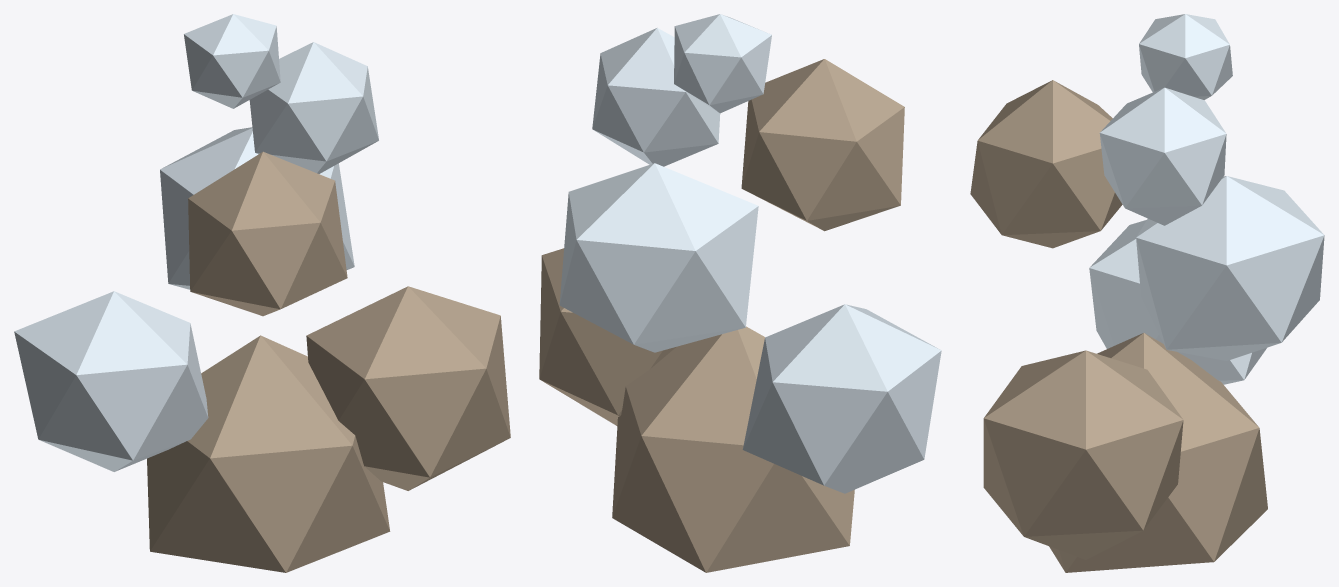
Rendered from boom-3.glb.
The picture shows the model from 3 angles, left to right: view 1: azimuth 30°, elevation 25°; view 2: azimuth 150°, elevation 25°; view 3: azimuth 270°, elevation 25°; orthographic projection. The views are drawn at different scales.
Visible parts, largest first — view 1: boom-3; view 2: boom-3; view 3: boom-3.
Boxes of the visible parts, bbox=[...] form: boom-3: bbox=[14, 14, 510, 572]; boom-3: bbox=[539, 14, 941, 572]; boom-3: bbox=[970, 14, 1324, 572].
Bounding box in the file's own units: 1.18 × 1.4 × 0.8555.
